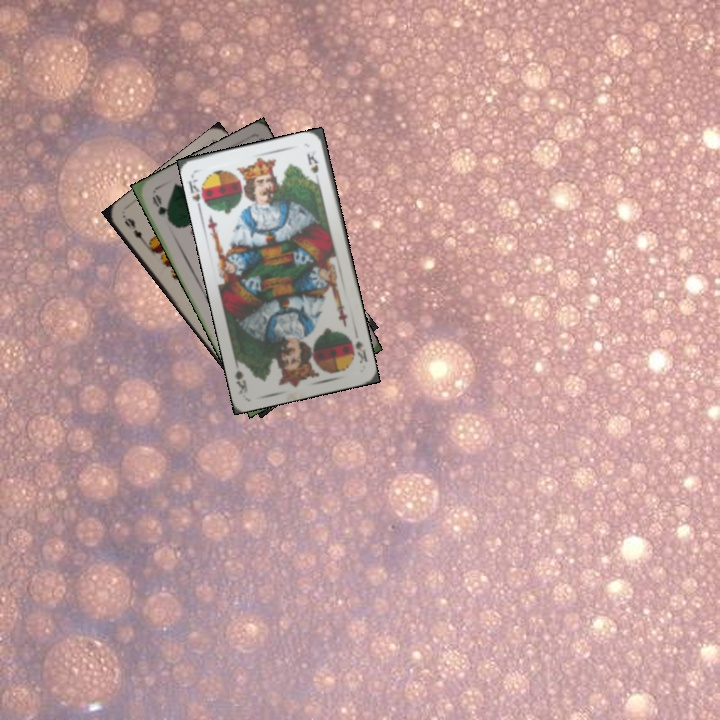E9: (120, 214, 152, 248)
GO: (148, 190, 175, 227)
SK: (185, 175, 211, 212), (351, 337, 370, 366)
